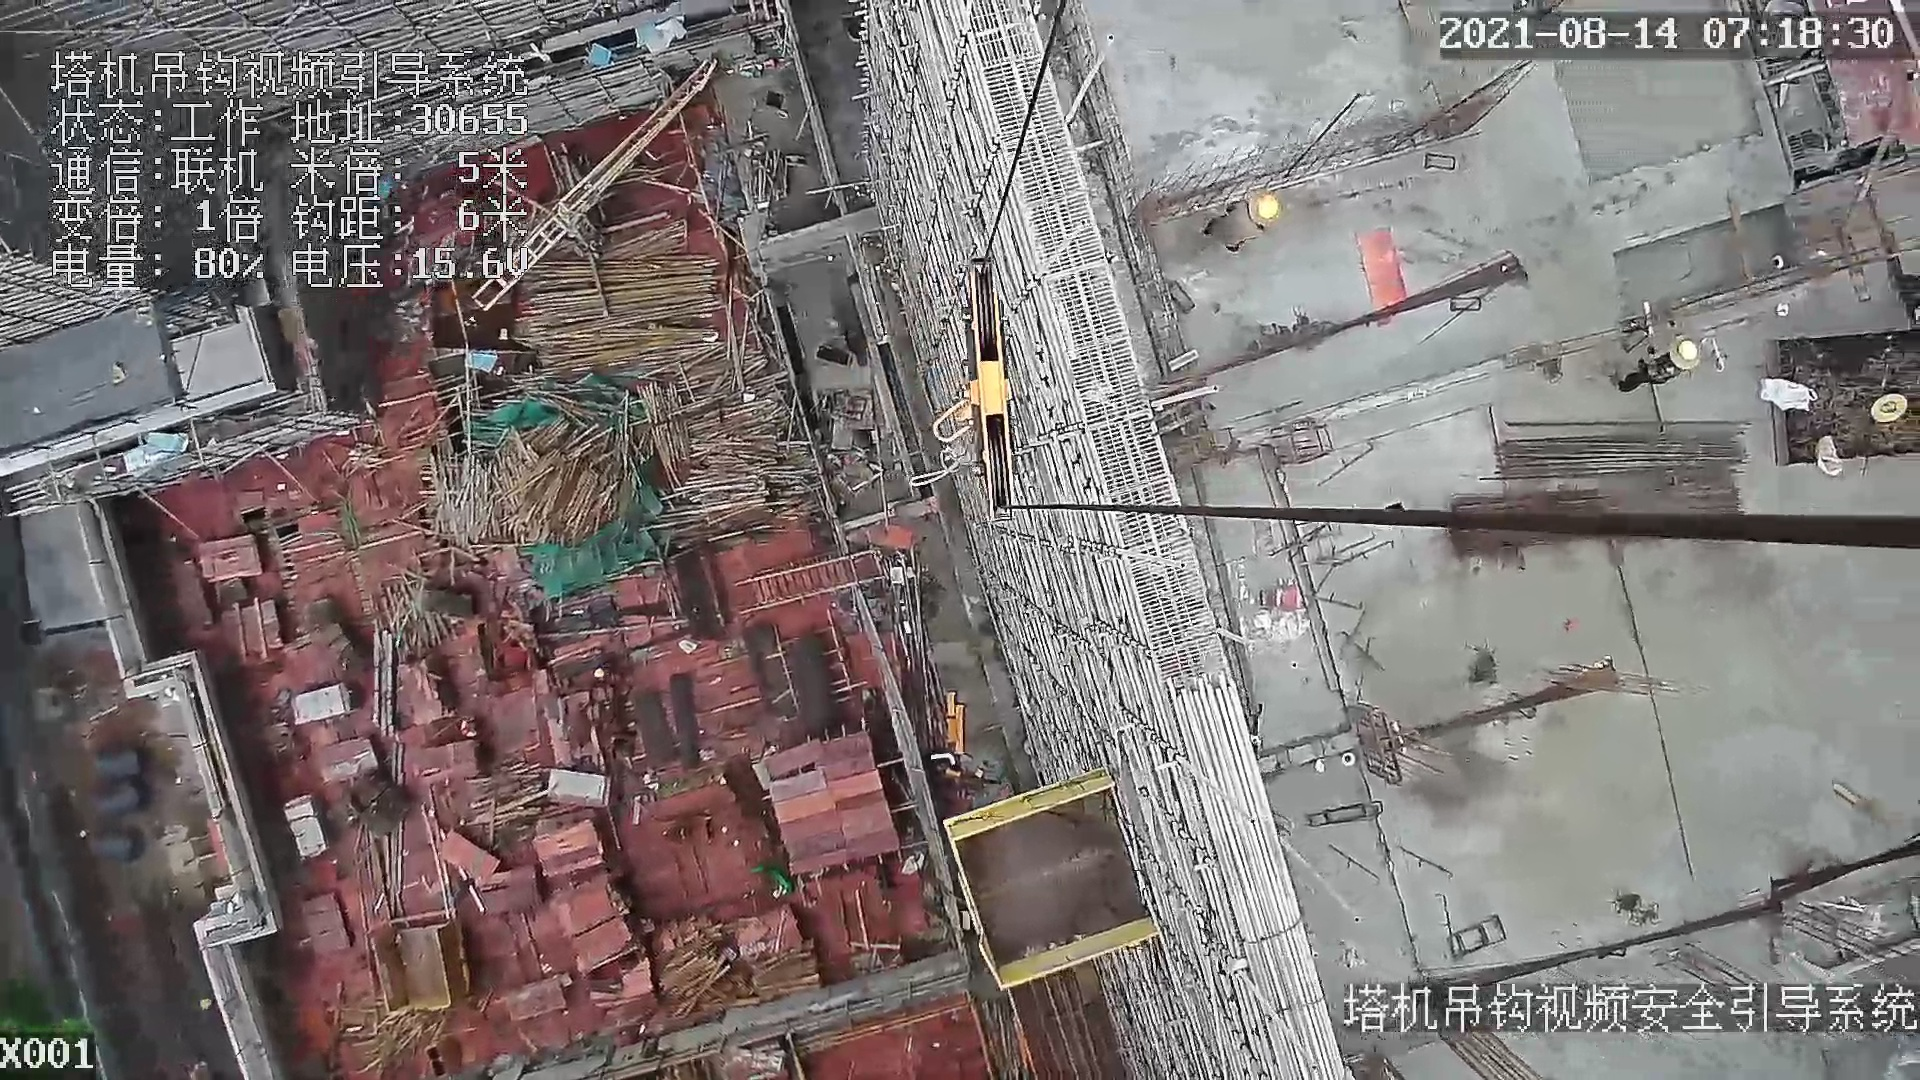helmet: (1677, 338, 1699, 368), (1252, 194, 1275, 220)
hook: (931, 249, 1017, 531)
person: (1600, 332, 1695, 392), (1203, 192, 1279, 250)
